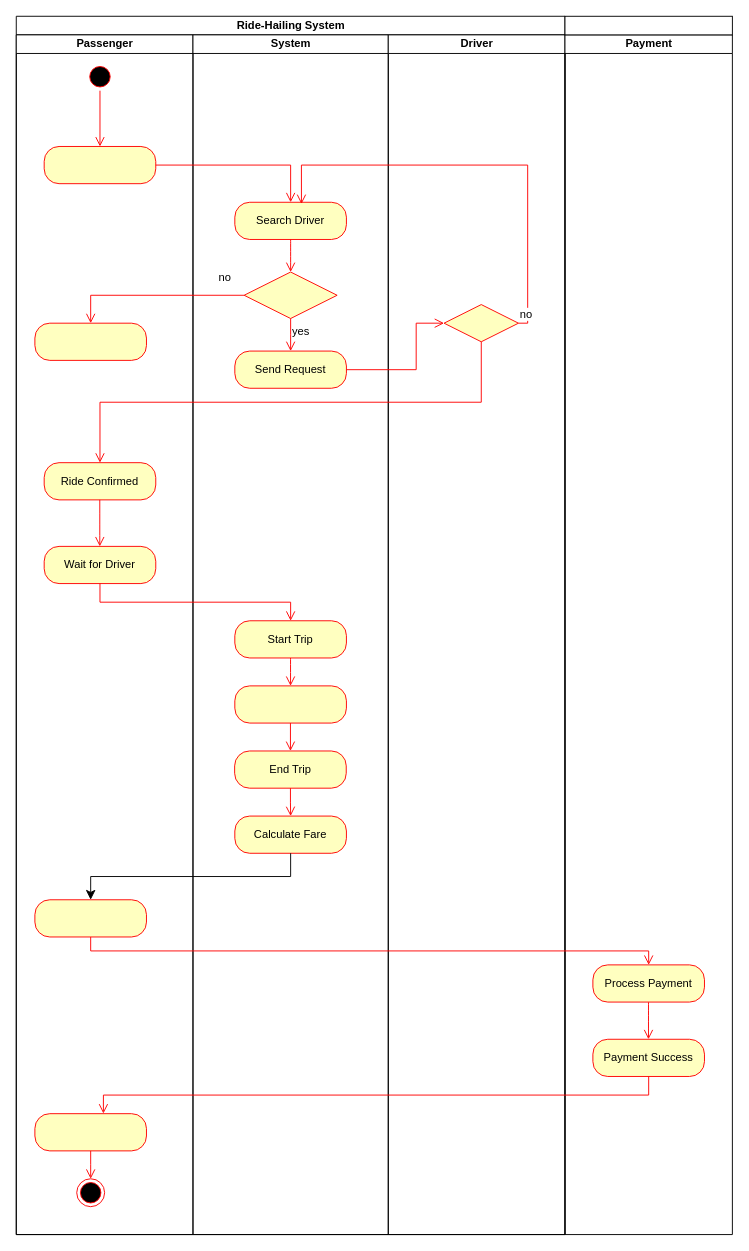
This 749x1251 diagram has some shape labels left out. Each missing label, with the centre of its shape:
"Driver Accepts?" goes at pixel 480 323.
"Driver Match?" goes at pixel 290 295.
"Notify User" goes at pixel 90 341.
"Pay Fare" goes at pixel 90 918.
"Receive Receipt" goes at pixel 90 1132.
"Request Ride" goes at pixel 99 165.
"Travel Route" goes at pixel 290 704.
